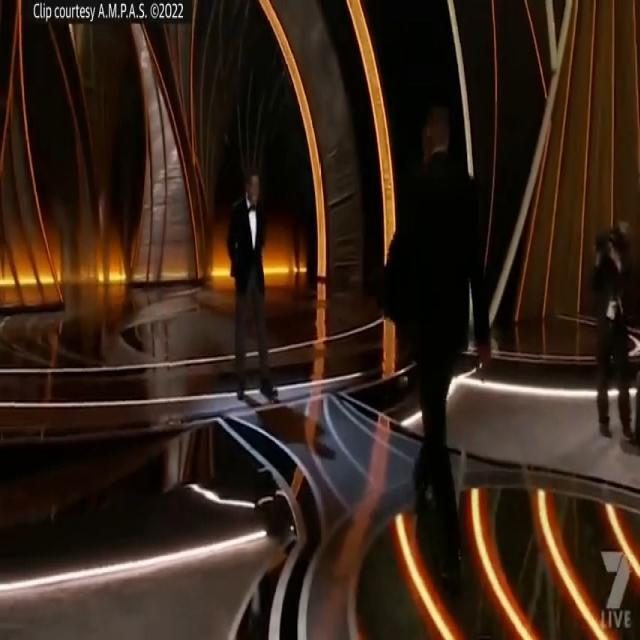non-fight: (379, 97, 496, 593), (219, 159, 285, 410), (581, 216, 640, 446)
